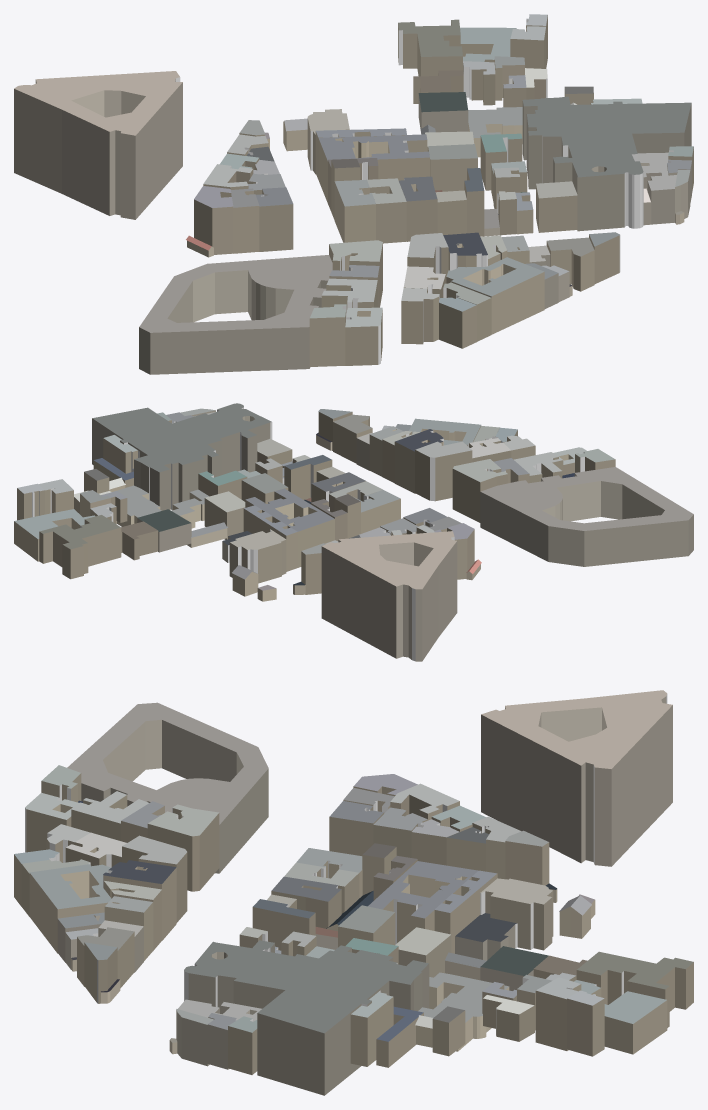
3 views of the same model, one above another, from view 1: azimuth 30°, elevation 25°; view 2: azimuth 150°, elevation 25°; view 3: azimuth 270°, elevation 25° (orthographic). The views are drawn at different scales.
Parts seen in each view (by area): view 1: tuile; view 2: tuile; view 3: tuile.
Part boxes in pixels (left/top/right/bottom): tuile: left=14, top=14, right=693, bottom=374; tuile: left=14, top=403, right=693, bottom=661; tuile: left=14, top=690, right=693, bottom=1095.
Bounding box in the file's own units: 327 × 49.05 × 266.
